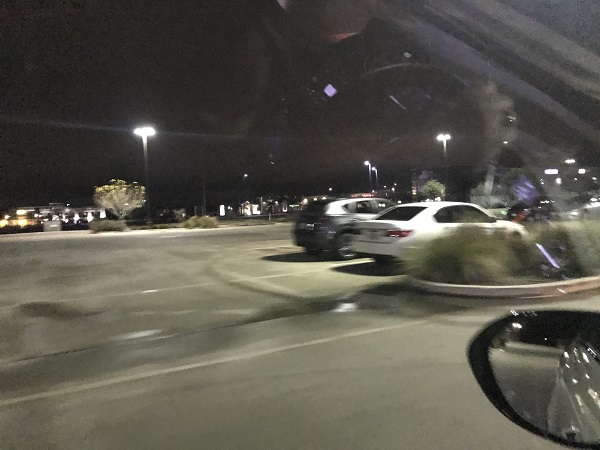car: (351, 200, 528, 264), (290, 195, 401, 258)
